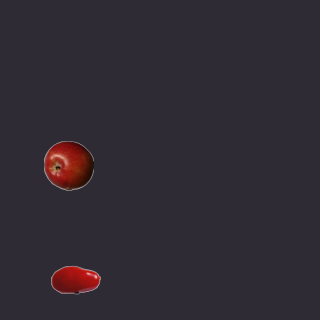Apple Braeburn: (43, 140, 93, 190)
Tomato 2: (50, 254, 100, 304)
